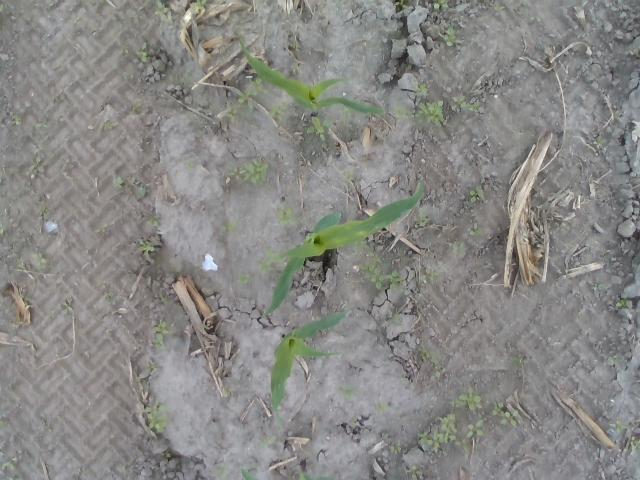Maize: (264, 181, 426, 318), (237, 32, 386, 134), (268, 311, 350, 433), (238, 466, 338, 480)
Weeds: (416, 412, 457, 456), (392, 100, 444, 128), (359, 255, 403, 288), (457, 412, 488, 455), (228, 158, 272, 186), (237, 77, 269, 112), (414, 346, 446, 378), (448, 384, 482, 412), (305, 114, 337, 143), (432, 22, 464, 48), (144, 400, 168, 432), (492, 401, 519, 428), (150, 319, 170, 352), (260, 248, 286, 273), (152, 0, 176, 25), (450, 95, 480, 113), (28, 154, 48, 179), (337, 106, 352, 138), (468, 185, 488, 208), (335, 384, 361, 400), (351, 240, 376, 256), (32, 198, 50, 220), (278, 207, 300, 225), (128, 103, 148, 122), (270, 103, 290, 122), (465, 222, 488, 238), (136, 40, 149, 64), (447, 240, 466, 256), (137, 241, 157, 256), (375, 401, 398, 414), (416, 80, 432, 98), (32, 252, 48, 270), (222, 218, 240, 234), (258, 436, 278, 450), (406, 464, 423, 480), (213, 463, 230, 479), (225, 104, 239, 122), (132, 182, 146, 200), (615, 296, 633, 309), (416, 207, 428, 226), (388, 440, 402, 456), (609, 419, 626, 432), (431, 0, 449, 12), (342, 168, 354, 184), (0, 3, 17, 14), (112, 176, 125, 190), (628, 434, 640, 449), (10, 111, 22, 126), (144, 361, 160, 372), (394, 0, 410, 11), (239, 273, 252, 286), (146, 214, 160, 226), (608, 355, 624, 365), (96, 223, 112, 233), (0, 462, 16, 472), (512, 355, 524, 368), (62, 303, 74, 316), (553, 222, 568, 232), (32, 120, 48, 129), (15, 259, 26, 272), (0, 418, 10, 432), (0, 224, 8, 241), (222, 385, 234, 396), (5, 270, 18, 280), (592, 136, 606, 145), (159, 292, 169, 304), (69, 15, 82, 24), (292, 62, 302, 73), (101, 291, 111, 302), (134, 375, 145, 385), (64, 158, 75, 168), (591, 282, 608, 288), (430, 271, 440, 281), (249, 119, 258, 130), (528, 16, 542, 23), (160, 451, 172, 459), (292, 41, 302, 50), (196, 0, 208, 7), (185, 160, 192, 172), (47, 311, 56, 320), (120, 47, 129, 56), (495, 4, 505, 12), (104, 120, 112, 129), (392, 313, 400, 320), (15, 314, 22, 322), (352, 415, 358, 423)
